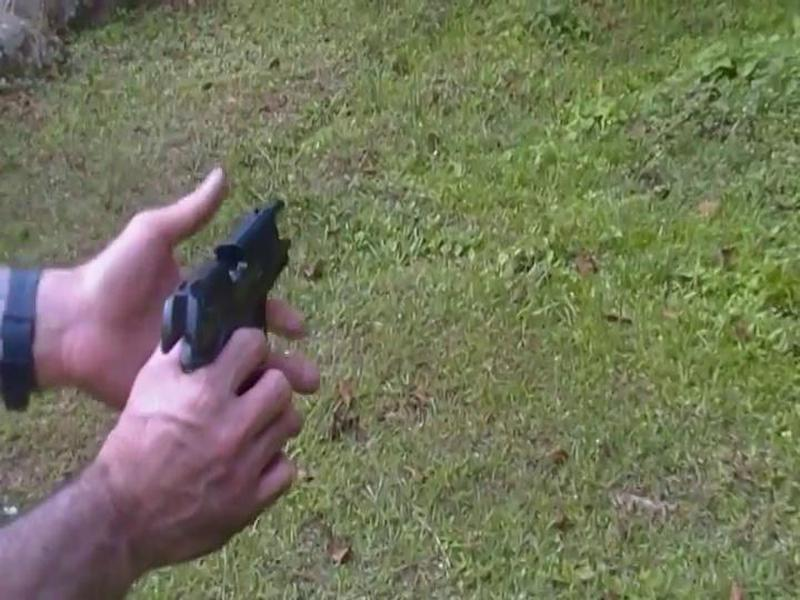Pistola: (124, 179, 315, 441)
